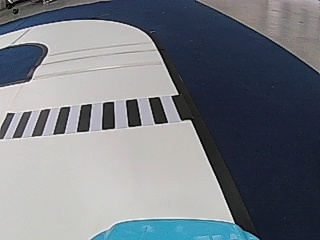CrossWalk: (4, 93, 188, 139)
